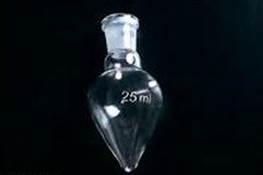Pear shaped flask: (78, 16, 173, 165)
